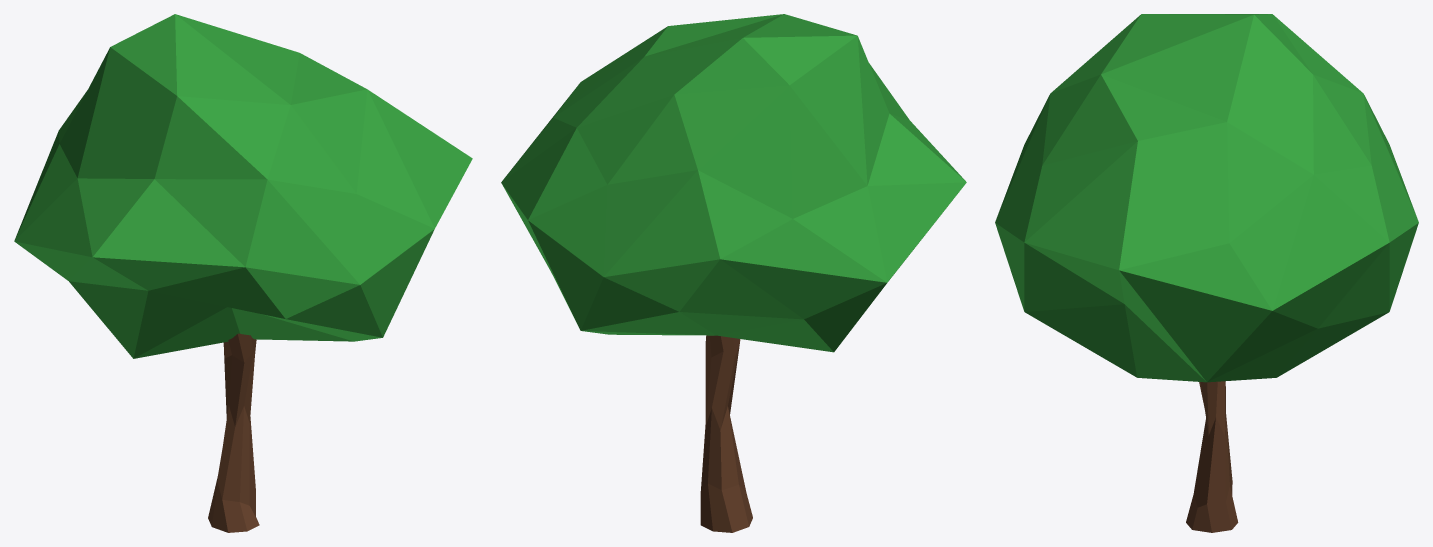
The model's file is Tree_47_Green.fbx.
3 views of the same model, side by side, from view 1: azimuth 30°, elevation 25°; view 2: azimuth 150°, elevation 25°; view 3: azimuth 270°, elevation 25° (orthographic). The views are drawn at different scales.
Parts seen in each view (by area): view 1: Tree_47_Green_Part_1, Tree_47_Green_Part_2; view 2: Tree_47_Green_Part_1, Tree_47_Green_Part_2; view 3: Tree_47_Green_Part_1, Tree_47_Green_Part_2.
Part boxes in pixels (bbox=[...]): Tree_47_Green_Part_1: bbox=[14, 14, 472, 358]; Tree_47_Green_Part_2: bbox=[208, 333, 259, 532]; Tree_47_Green_Part_1: bbox=[501, 14, 966, 352]; Tree_47_Green_Part_2: bbox=[700, 335, 752, 532]; Tree_47_Green_Part_1: bbox=[995, 14, 1418, 382]; Tree_47_Green_Part_2: bbox=[1186, 381, 1238, 532].
Size of the model in its own units: 630 by 794 by 622.
